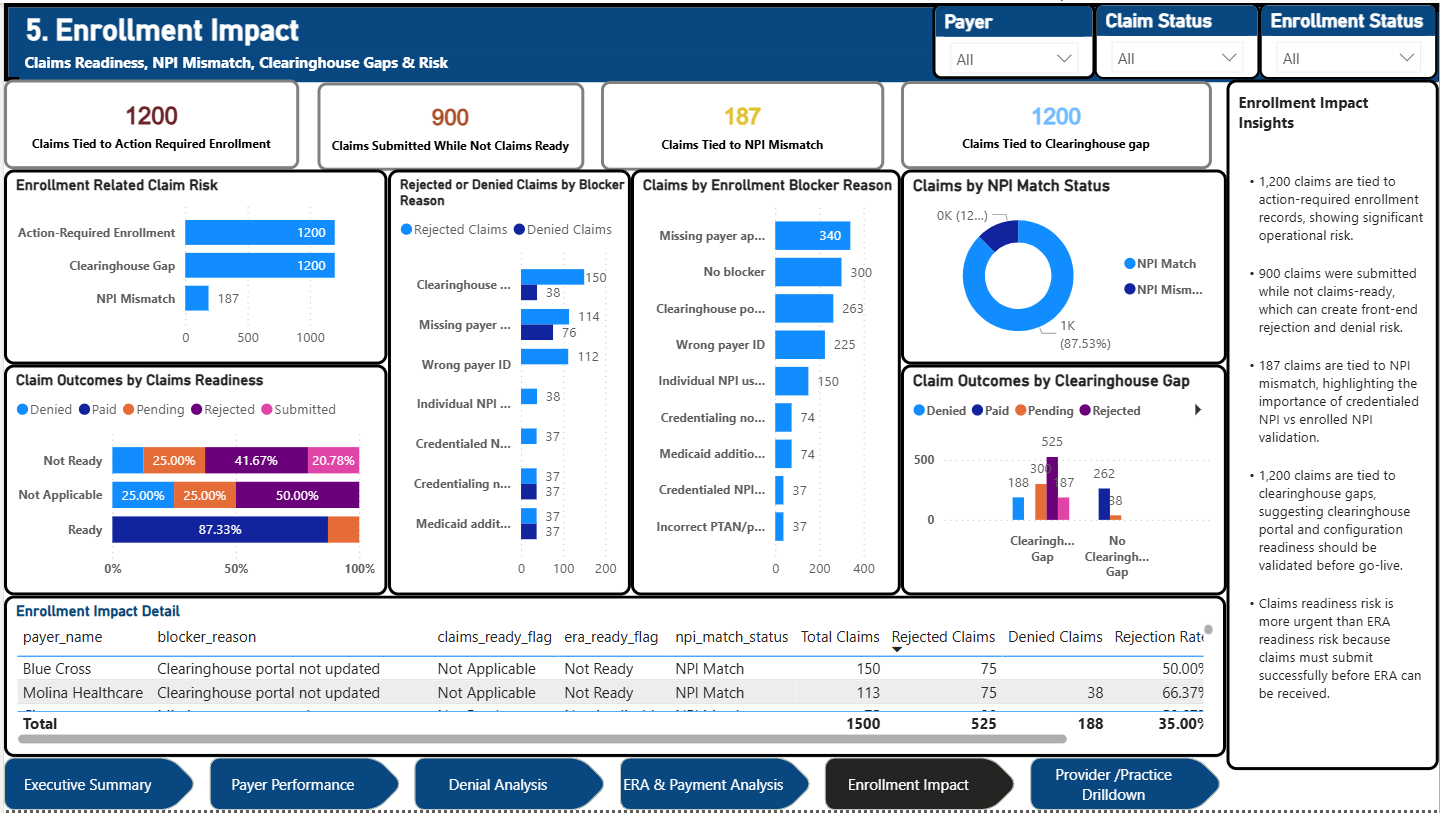

What the dashboard file says about the page in this screenshot:
{"tool":"powerbi","page":{"name":"Enrollment Impact","canvas":[1280,720],"ordinal":4},"visuals":[{"type":"shape","box":[0,0,1280,70],"z":0},{"type":"textbox","title":"5. Enrollment Impact","box":[13.2,7.6,1266.2,62.4],"z":1},{"type":"slicer","title":"Payer","fields":{"Values":["dim_payer.payer_name"]},"box":[827.7,0,145.5,68],"z":2},{"type":"slicer","title":"Claim Status","fields":{"Values":["fact_claims.claim_status"]},"box":[973.2,0,147.4,68],"z":3},{"type":"slicer","title":"Enrollment Status","fields":{"Values":["dim_payer.payer_name"]},"box":[1120.5,0,159,68.1],"z":4},{"type":"card","fields":{"Values":["_Measures.Claims Submitted While Not Claims Ready"]},"box":[280.1,71.2,237.7,78.7],"z":5},{"type":"card","fields":{"Values":["_Measures.Claims Tied to NPI Mismatch"]},"box":[533,69.7,252.9,80.3],"z":6},{"type":"card","fields":{"Values":["_Measures.Claims Tied to Clearinghouse gap"]},"box":[799.5,69.7,277.1,78.7],"z":7},{"type":"card","fields":{"Values":["_Measures.Claims Tied to Action Required Enrollment"]},"box":[0,68.1,263.5,80.3],"z":8},{"type":"tableEx","title":"Enrollment Impact Detail","fields":{"Values":["dim_payer.payer_name","dim_enrollment.blocker_reason","dim_enrollment.claims_ready_flag","dim_enrollment.era_ready_flag","dim_enrollment.npi_match_status","_Measures.Total Claims","_Measures.Rejected Claims","_Measures.Denied Claims","_Measures.Rejection Rate","_Measures.Total Billed Amount"]},"box":[0,528.5,1090.2,143.8],"z":9},{"type":"textbox","box":[1090.2,68.1,189.3,616.3],"z":10},{"type":"clusteredBarChart","title":"Enrollment Related Claim Risk","fields":{"Category":["Enrollment Risk Labels.Metric"],"Y":["_Measures.Enrollment Risk Value"]},"box":[0,148.4,342.2,174.1],"z":11},{"type":"hundredPercentStackedBarChart","title":"Claim Outcomes by Claims Readiness","fields":{"Category":["dim_enrollment.claims_ready_flag"],"Series":["fact_claims.claim_status"],"Y":["_Measures.Total Claims"]},"box":[0,322.5,342.2,205.9],"z":12},{"type":"clusteredBarChart","title":"Claims by Enrollment Blocker Reason","fields":{"Category":["dim_enrollment.blocker_reason"],"Y":["_Measures.Total Claims"]},"box":[558.7,148.4,240.8,380.1],"z":13},{"type":"clusteredBarChart","title":"Rejected or Denied Claims by Blocker Reason","fields":{"Category":["dim_enrollment.blocker_reason"],"Y":["_Measures.Rejected Claims","_Measures.Denied Claims"]},"box":[342.2,148.4,216.5,380.1],"z":14},{"type":"donutChart","title":"Claims by NPI Match Status","fields":{"Category":["dim_enrollment.npi_match_status"],"Y":["_Measures.Total Claims"]},"box":[799.5,148.4,290.7,174.1],"z":15},{"type":"clusteredColumnChart","title":"Claim Outcomes by Clearinghouse Gap ","fields":{"Category":["dim_enrollment.Clearinghouse Gap Group"],"Series":["fact_claims.claim_status"],"Y":["_Measures.Total Claims"]},"box":[799.5,322.5,290.7,205.9],"z":16},{"type":"pageNavigator","box":[0,672.6,1089.5,47.4],"z":17}]}

Visuals, with their boxes in screenshot pixels (x1, y1, x2, y2), scaled from the page's 1280x720 canvas onto the 1440x813 screenshot:
shape: region(0, 0, 1439, 79)
"5. Enrollment Impact" textbox: region(15, 9, 1439, 79)
"Payer" slicer: region(931, 0, 1095, 77)
"Claim Status" slicer: region(1095, 0, 1261, 77)
"Enrollment Status" slicer: region(1261, 0, 1439, 77)
card - _Measures.Claims Submitted While Not Claims Ready: region(315, 80, 583, 169)
card - _Measures.Claims Tied to NPI Mismatch: region(600, 79, 884, 169)
card - _Measures.Claims Tied to Clearinghouse gap: region(899, 79, 1211, 168)
card - _Measures.Claims Tied to Action Required Enrollment: region(0, 77, 296, 168)
"Enrollment Impact Detail" tableEx: region(0, 597, 1226, 759)
textbox: region(1226, 77, 1439, 773)
"Enrollment Related Claim Risk" clusteredBarChart: region(0, 168, 385, 364)
"Claim Outcomes by Claims Readiness" hundredPercentStackedBarChart: region(0, 364, 385, 597)
"Claims by Enrollment Blocker Reason" clusteredBarChart: region(629, 168, 899, 597)
"Rejected or Denied Claims by Blocker Reason" clusteredBarChart: region(385, 168, 629, 597)
"Claims by NPI Match Status" donutChart: region(899, 168, 1226, 364)
"Claim Outcomes by Clearinghouse Gap " clusteredColumnChart: region(899, 364, 1226, 597)
pageNavigator: region(0, 759, 1226, 812)
